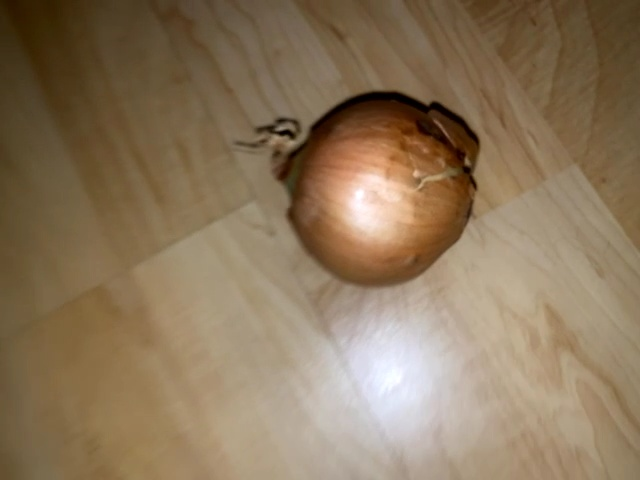onion: (235, 85, 487, 292)
